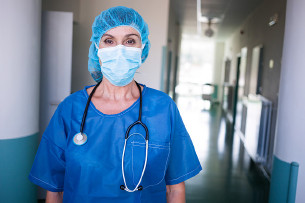face_mask: (98, 26, 140, 85)
